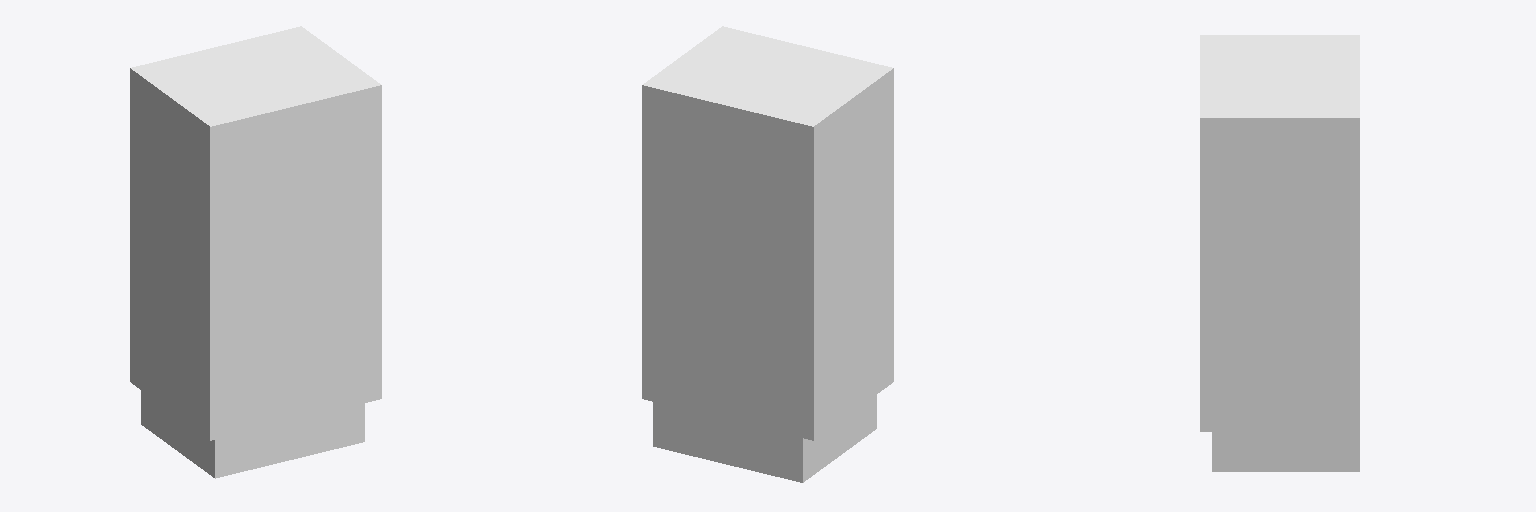
The model's file is VendingCola.obj.
The picture shows the model from 3 angles: view 1: azimuth 30°, elevation 25°; view 2: azimuth 150°, elevation 25°; view 3: azimuth 270°, elevation 25°; orthographic projection.
Visible parts, largest first — view 1: object 1; view 2: object 1; view 3: object 1.
Part boxes in pixels (x1,y1,x2,y2): object 1: (130,26,381,478); object 1: (642,26,893,482); object 1: (1200,35,1359,471).
Bounding box in the file's own units: 1.6 × 3.2 × 1.3.